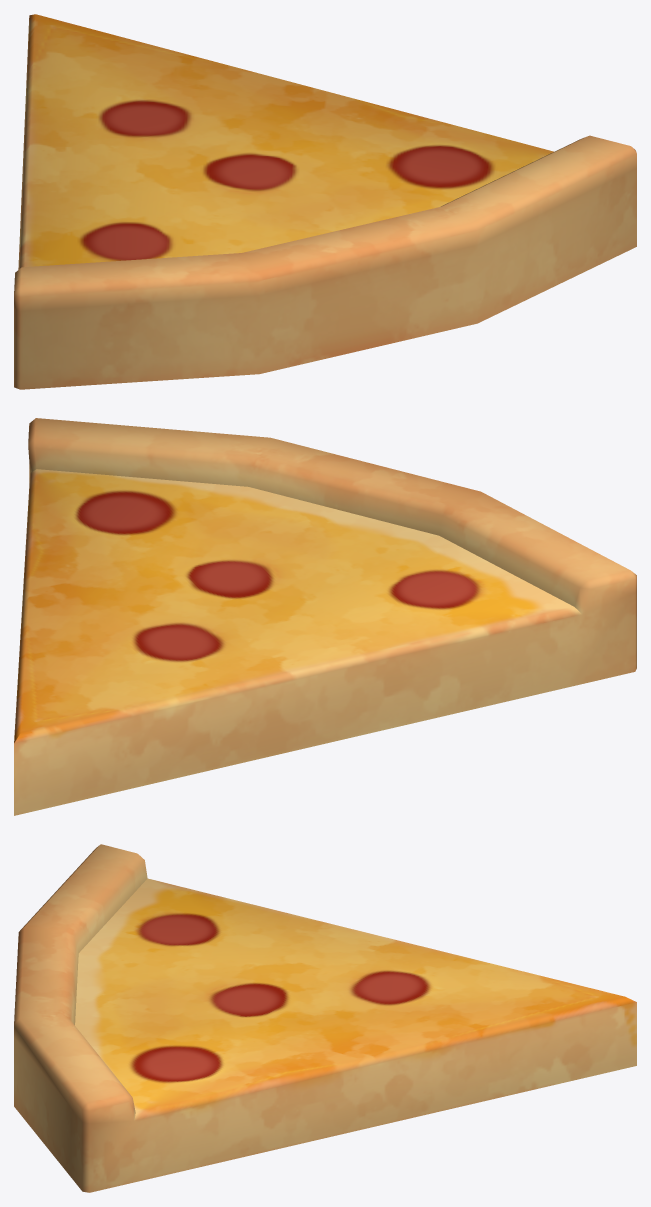
The model's file is PizzaSlice6.fbx.
3 renders of one model, top to bottom at view 1: azimuth 30°, elevation 25°; view 2: azimuth 150°, elevation 25°; view 3: azimuth 270°, elevation 25°, orthographic. The views are drawn at different scales.
Visible parts, largest first — view 1: PizzaSlice6; view 2: PizzaSlice6; view 3: PizzaSlice6.
Part boxes in pixels (box(x1,y1,x2,y2)): PizzaSlice6: box(14, 14, 636, 389); PizzaSlice6: box(14, 418, 636, 815); PizzaSlice6: box(14, 844, 636, 1192).
Size of the model in its own units: 99.03 by 15.28 by 98.83.
Materials: 1 (1 with a texture image).
